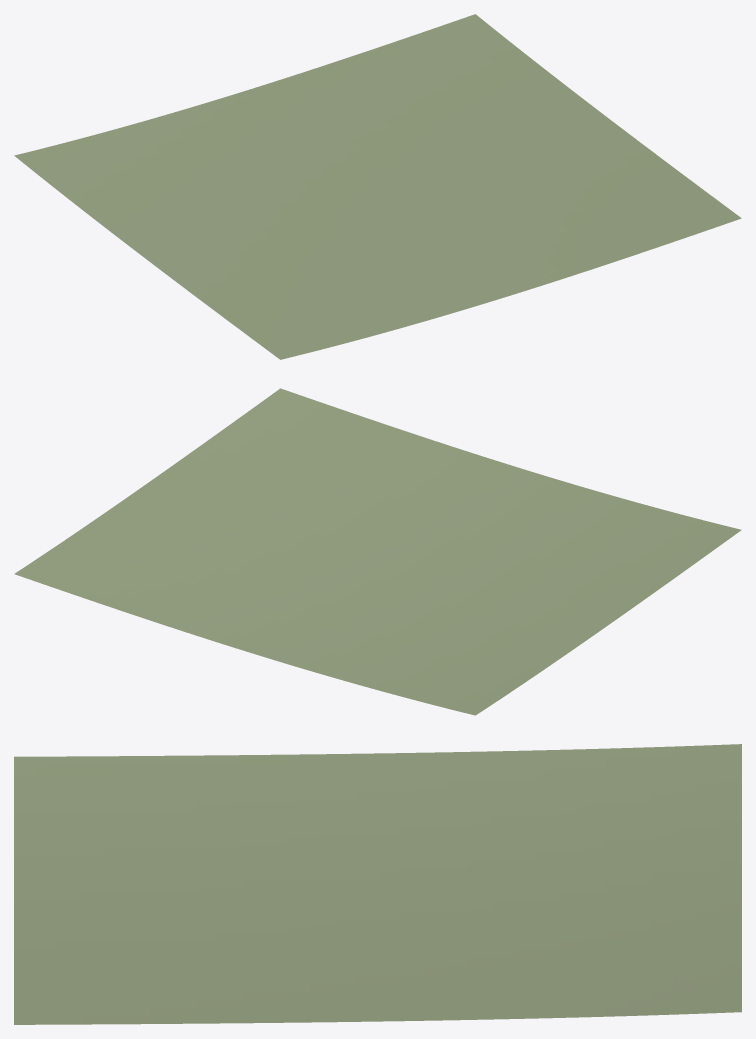
The model's file is valley-0-4.glb.
3 renders of one model, top to bottom at view 1: azimuth 30°, elevation 25°; view 2: azimuth 150°, elevation 25°; view 3: azimuth 270°, elevation 25°, orthographic. The views are drawn at different scales.
Visible parts, largest first — view 1: valley-0-4; view 2: valley-0-4; view 3: valley-0-4.
Part boxes in pixels (left/top/right/bottom): valley-0-4: left=14, top=14, right=741, bottom=359; valley-0-4: left=14, top=388, right=741, bottom=715; valley-0-4: left=14, top=744, right=741, bottom=1024.
Bounding box in the file's own units: 256 × 20.27 × 256.
